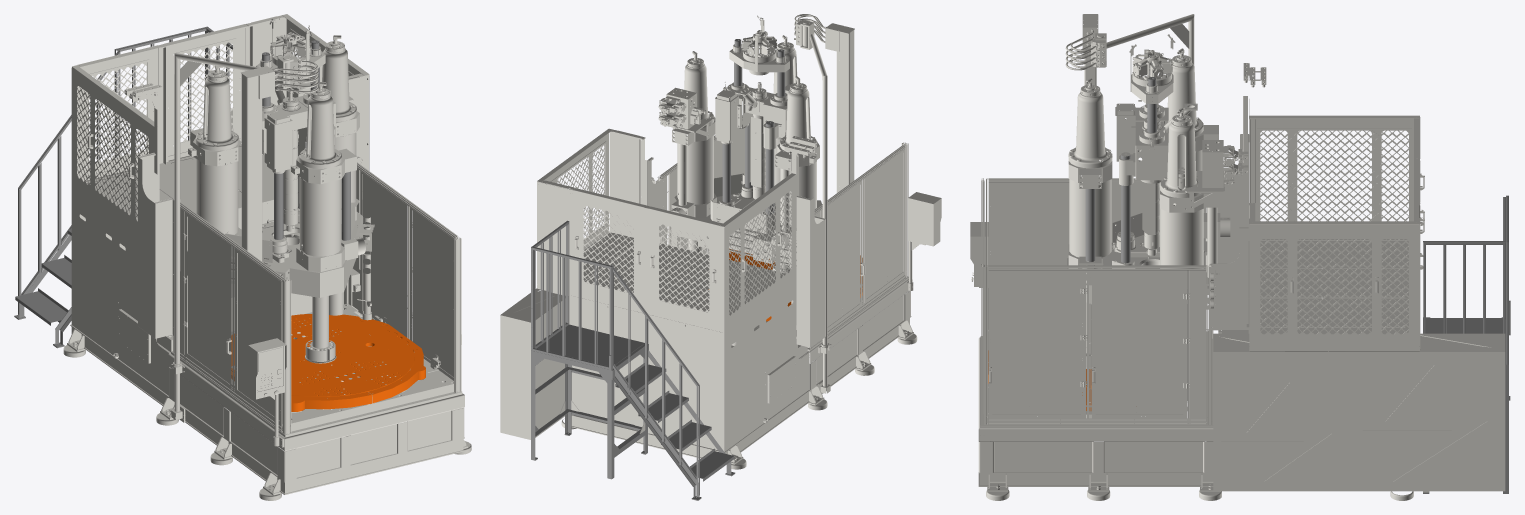
The picture shows the model from 3 angles, left to right: view 1: azimuth 30°, elevation 25°; view 2: azimuth 150°, elevation 25°; view 3: azimuth 270°, elevation 25°; orthographic projection. The views are drawn at different scales.
Visible parts, largest first — view 1: Buffer Layer (×3); view 2: Buffer Layer (×2); view 3: Buffer Layer (×2).
Part boxes in pixels (box(x1,y1,x2,y2)): Buffer Layer (×3): box(14, 14, 471, 500); Buffer Layer (×2): box(500, 14, 941, 500); Buffer Layer (×2): box(970, 14, 1510, 500).
Size of the model in its own units: 0.0959 by 0.1447 by 0.1731.
